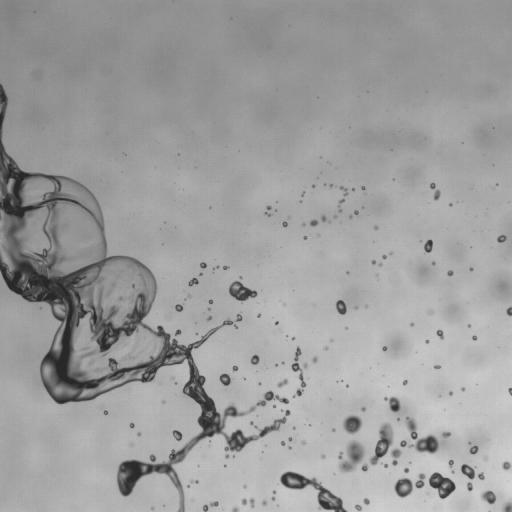droplet: (400, 417, 439, 453), (369, 422, 401, 465), (338, 440, 365, 472), (394, 473, 425, 497), (429, 472, 455, 499), (228, 280, 257, 301), (343, 415, 362, 434), (384, 396, 400, 412), (480, 490, 496, 504), (336, 300, 346, 314), (219, 373, 230, 385), (241, 498, 254, 507), (502, 499, 511, 511), (424, 239, 432, 252), (172, 430, 182, 440), (277, 378, 287, 387), (250, 355, 259, 364), (469, 445, 478, 454), (502, 461, 511, 470), (188, 278, 198, 286), (309, 219, 318, 226), (497, 235, 506, 242), (434, 190, 440, 200), (436, 330, 443, 338), (361, 463, 368, 471), (175, 304, 182, 311), (442, 431, 450, 437), (506, 306, 511, 315), (448, 459, 453, 467), (467, 482, 472, 490), (200, 262, 206, 268), (175, 329, 181, 335), (232, 365, 238, 371), (363, 498, 369, 504), (355, 504, 361, 510), (430, 183, 435, 189), (321, 215, 326, 221), (282, 221, 287, 227), (447, 270, 453, 275), (312, 356, 317, 362), (232, 507, 239, 511), (382, 346, 387, 351), (404, 468, 409, 473), (472, 335, 476, 340), (130, 423, 134, 428), (262, 500, 266, 505), (434, 365, 440, 368), (354, 210, 358, 214), (382, 255, 386, 259), (371, 260, 375, 264), (469, 267, 473, 271), (187, 294, 191, 298), (207, 316, 211, 320), (403, 380, 407, 384), (361, 407, 365, 411), (301, 440, 305, 444), (225, 454, 229, 458), (321, 454, 325, 458), (483, 456, 487, 460), (119, 296, 122, 301), (224, 266, 228, 269), (209, 299, 212, 303), (324, 347, 328, 350), (461, 387, 464, 391), (104, 410, 107, 414), (137, 432, 140, 436), (288, 438, 292, 441), (281, 441, 284, 445), (383, 464, 387, 467), (361, 186, 364, 189), (374, 226, 377, 229), (214, 266, 217, 269), (199, 272, 202, 275), (429, 311, 432, 314), (257, 314, 260, 317), (449, 392, 452, 395), (302, 192, 304, 195), (339, 209, 341, 212), (334, 215, 336, 218), (304, 236, 306, 239), (379, 263, 381, 266), (432, 262, 435, 264), (426, 340, 428, 343), (451, 470, 454, 472), (275, 322, 277, 324), (411, 323, 413, 325), (468, 325, 470, 327), (292, 337, 294, 339), (346, 385, 348, 387)
ligament: (0, 83, 288, 511), (279, 471, 347, 511), (291, 347, 307, 397), (461, 464, 484, 479), (203, 501, 218, 511), (340, 186, 347, 196), (265, 205, 271, 216), (338, 198, 344, 205), (272, 490, 275, 500), (508, 387, 511, 395), (190, 480, 197, 483)
